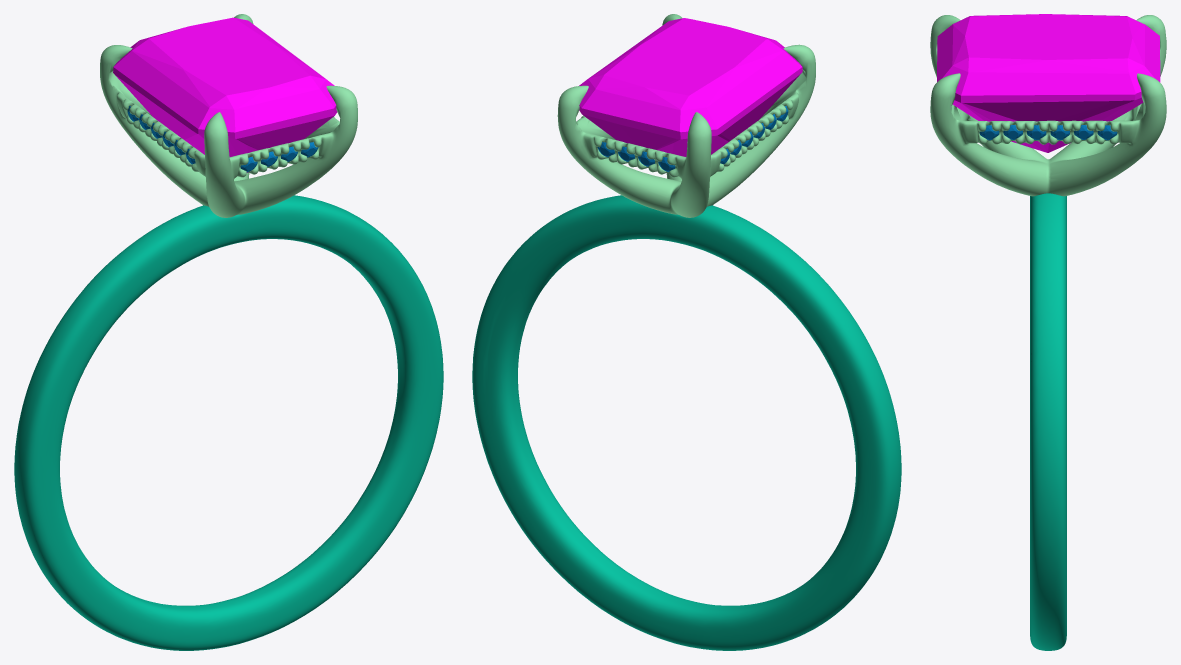
The model's file is BE1D20200_RA_200ct_RENDER.glb.
3 views of the same model, side by side, from view 1: azimuth 30°, elevation 25°; view 2: azimuth 150°, elevation 25°; view 3: azimuth 270°, elevation 25° (orthographic).
Visible parts, largest first — view 1: Metal 01, CS_Diamond_Radiant, Metal 02; view 2: Metal 01, CS_Diamond_Radiant, Metal 02; view 3: CS_Diamond_Radiant, Metal 01, Metal 02.
Boxes of the visible parts, x1,y1,x2,y2 form: Metal 01: [14, 195, 443, 650]; CS_Diamond_Radiant: [113, 17, 337, 172]; Metal 02: [100, 14, 357, 217]; Metal 01: [472, 195, 901, 650]; CS_Diamond_Radiant: [579, 18, 802, 156]; Metal 02: [557, 14, 815, 217]; CS_Diamond_Radiant: [937, 14, 1160, 152]; Metal 01: [1030, 193, 1066, 650]; Metal 02: [930, 15, 1166, 196].
Size of the model in its own units: 20.09 by 26.71 by 9.67.
